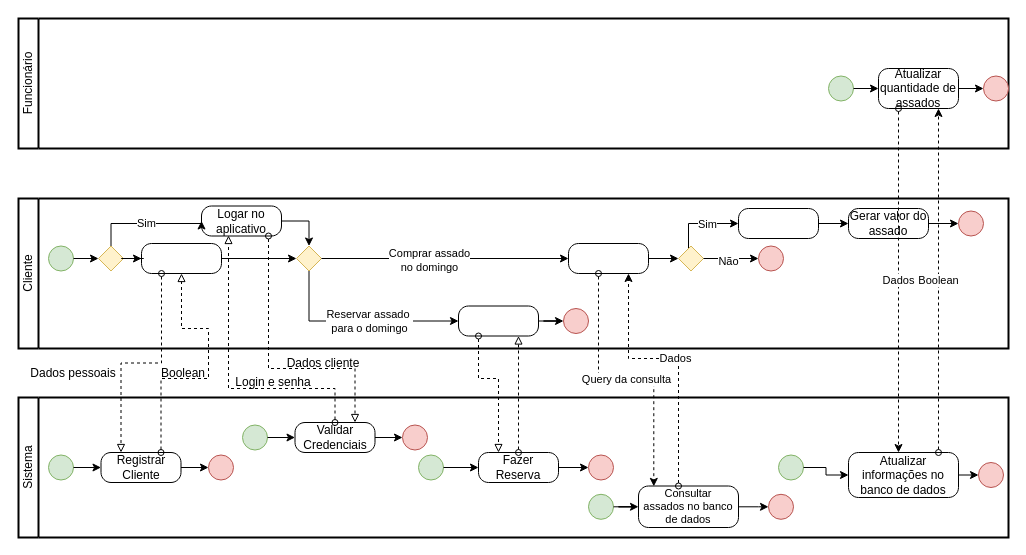
Image size: 1026x555. Some labels were removed from this diagram. Each missing label, with the centre of its shape:
"Cadastrar no aplicativo" belongs at point (181, 258).
"Confirmar Pedido" belongs at point (778, 223).
"Reservar Assado" belongs at point (498, 320).
"Sobrou assado?" belongs at point (691, 258).
"Tem conta?" belongs at point (111, 258).
"Verificar Restantes" belongs at point (608, 258).
